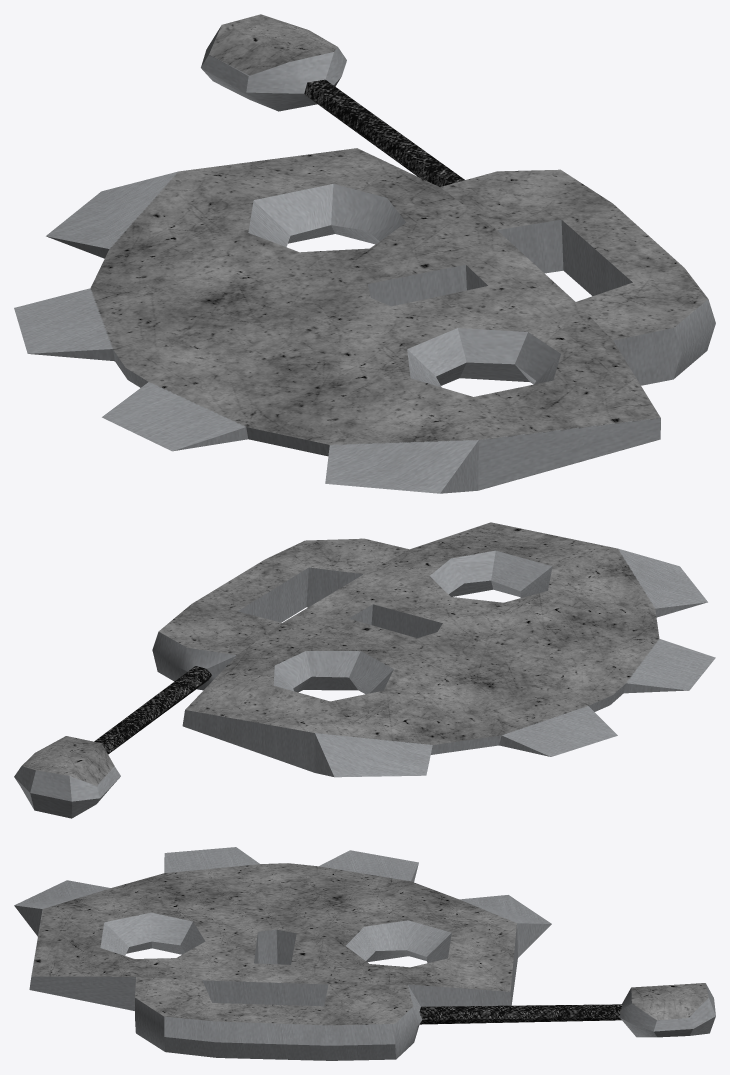
3 views of the same model, one above another, from view 1: azimuth 30°, elevation 25°; view 2: azimuth 150°, elevation 25°; view 3: azimuth 270°, elevation 25° (orthographic). The views are drawn at different scales.
Parts seen in each view (by area): view 1: Ax; view 2: Ax; view 3: Ax.
Part boxes in pixels (x1,y1,x2,y2): Ax: (14,14,715,493); Ax: (14,522,715,818); Ax: (14,847,715,1060).
Bounding box in the file's own units: 0.8035 × 0.0757 × 1.22.
1 material, 1 textured.
